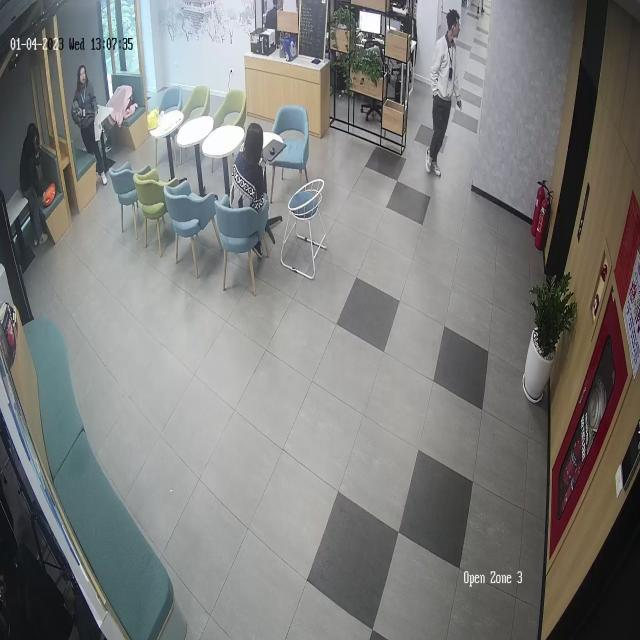person: (425, 8, 462, 178), (229, 121, 270, 253), (72, 64, 109, 185), (19, 122, 52, 246)
